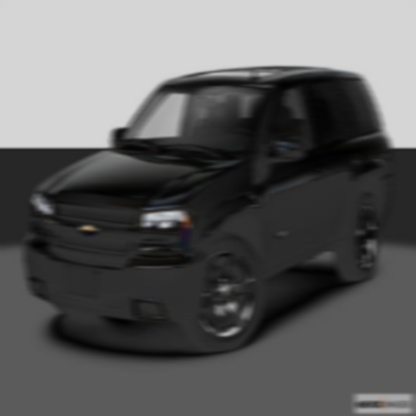Vehicle: (23, 64, 397, 355)
